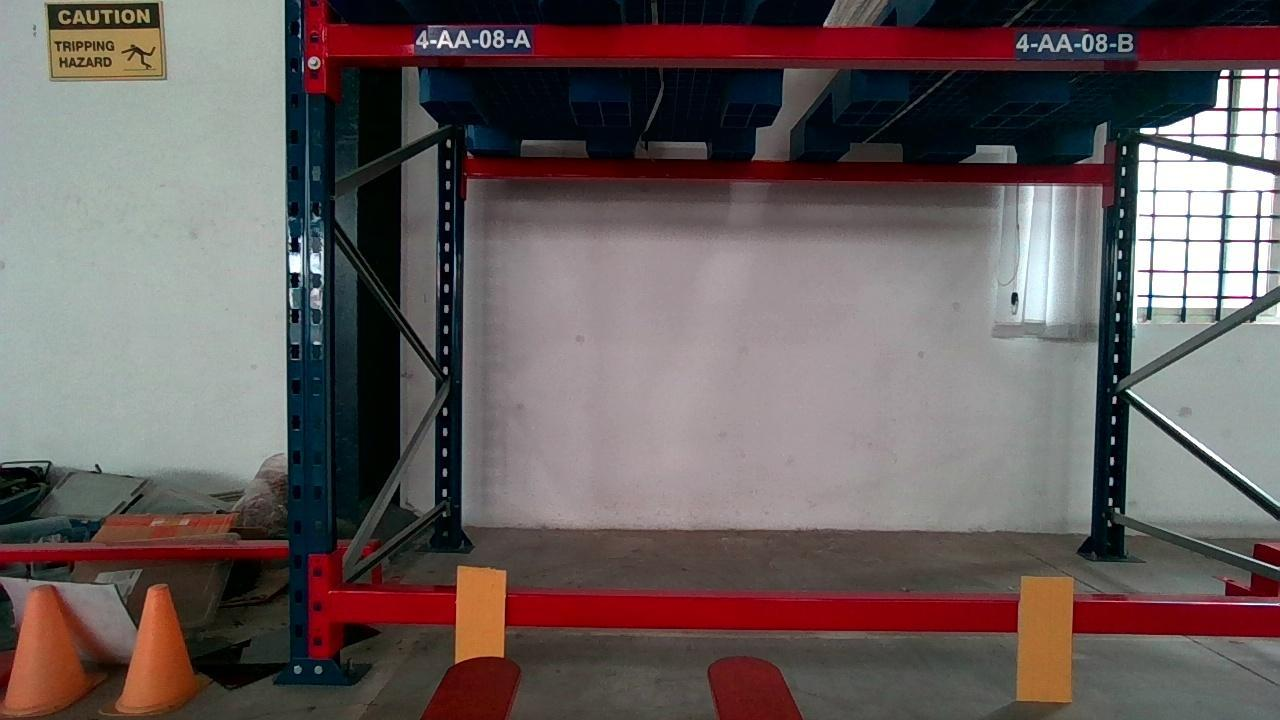h_rack: (330, 594, 1280, 638), (322, 21, 1280, 60)
orange_strip: (1015, 576, 1073, 702), (454, 567, 507, 662)
